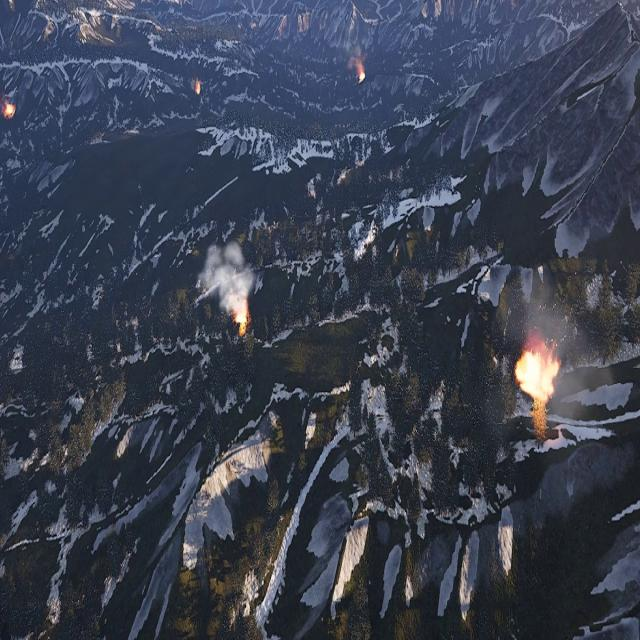fire: (518, 346, 561, 404), (235, 303, 250, 334), (4, 103, 15, 118), (357, 64, 365, 82), (194, 78, 200, 94)
smoke: (492, 277, 610, 438), (198, 238, 258, 313), (347, 41, 367, 68)
